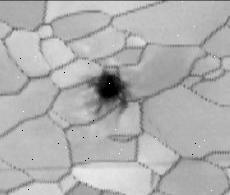good_void: (85, 66, 134, 117)
